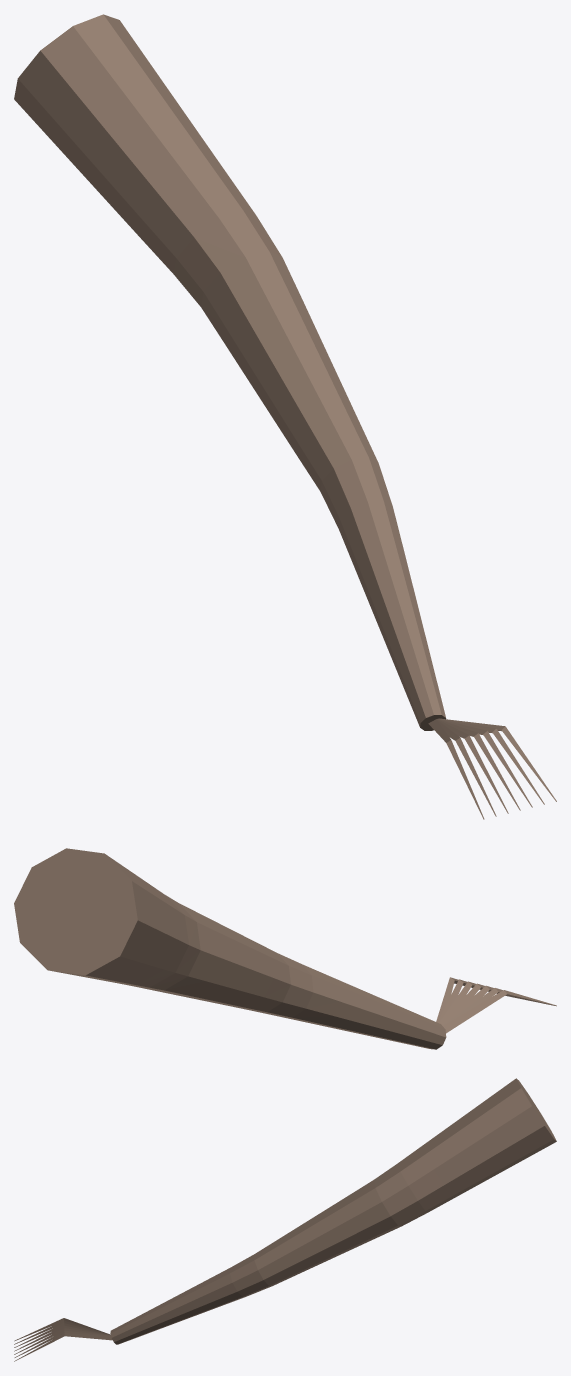
File: boar_tail_01.glb
3 views of the same model, one above another, from view 1: azimuth 30°, elevation 25°; view 2: azimuth 150°, elevation 25°; view 3: azimuth 270°, elevation 25° (orthographic). The views are drawn at different scales.
Parts seen in each view (by area): view 1: Tail; view 2: Tail, TailTuft0, TailTuft1, TailTuft2, TailTuft3, TailTuft4, TailTuft5, TailTuft6; view 3: Tail.
Boxes of the visible parts, x1,y1,x2,y2 form: Tail: [14, 14, 446, 730]; Tail: [14, 848, 446, 1049]; TailTuft0: [443, 990, 556, 1033]; TailTuft1: [442, 988, 502, 1025]; TailTuft2: [441, 985, 493, 1025]; TailTuft3: [441, 983, 484, 1024]; TailTuft4: [439, 981, 475, 1023]; TailTuft5: [438, 979, 467, 1022]; TailTuft6: [436, 977, 458, 1022]; Tail: [110, 1078, 556, 1344].
Bounding box in the file's own units: 0.0946 × 0.2965 × 0.5404.
